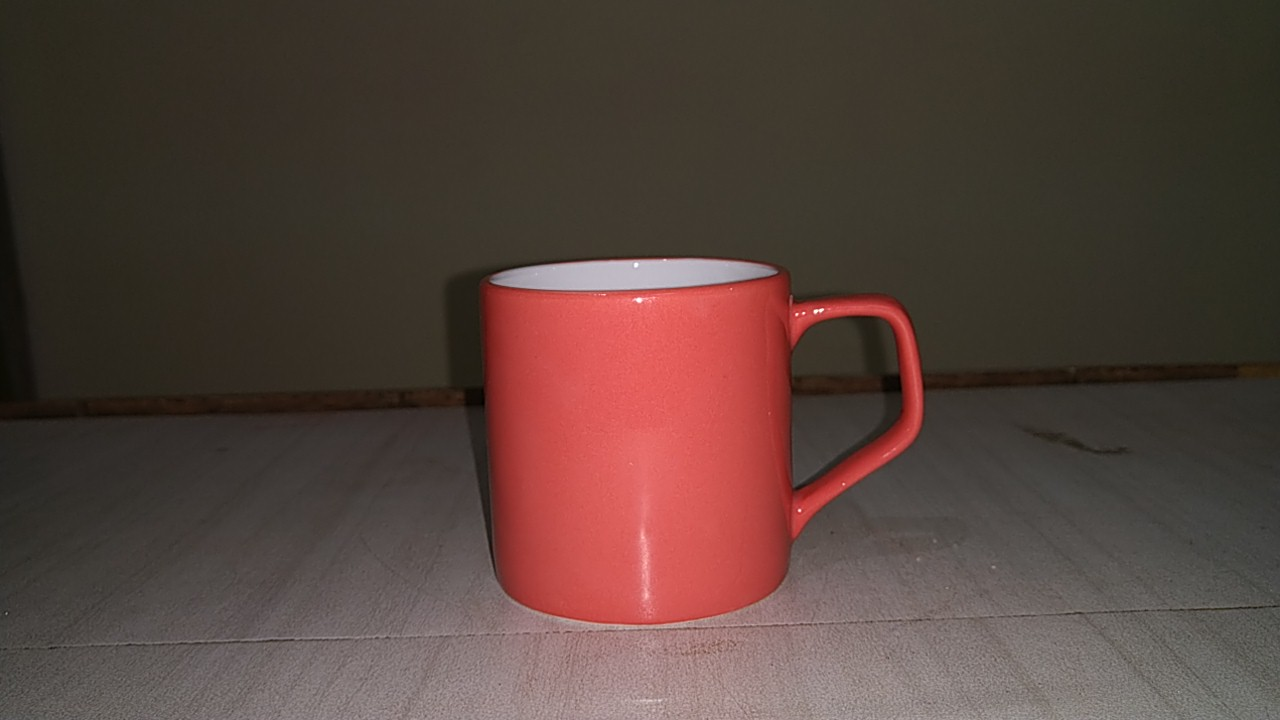cup: (461, 249, 938, 628)
